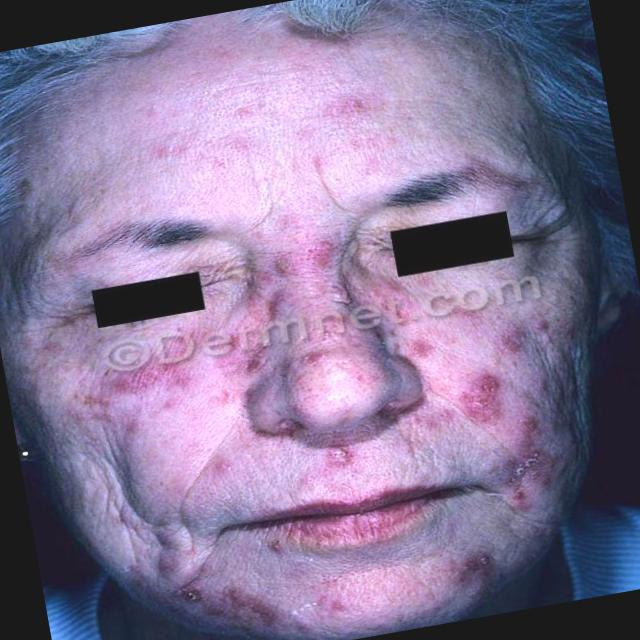skinredness: (55, 301, 319, 597)
